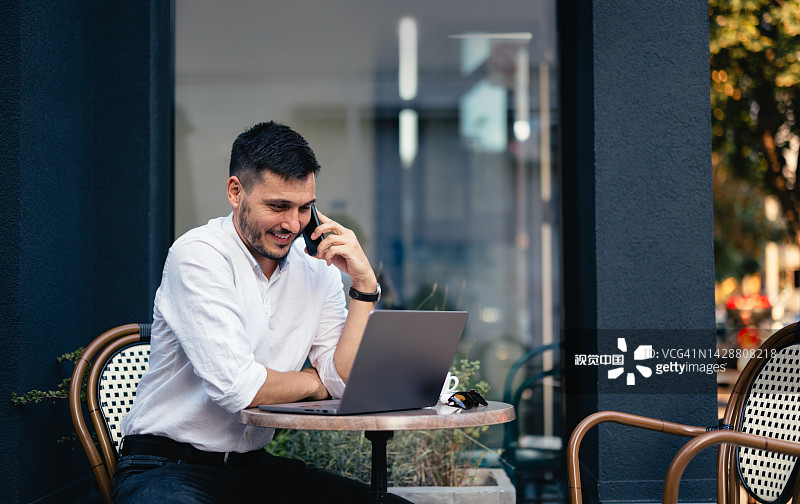calling: (297, 200, 385, 288)
